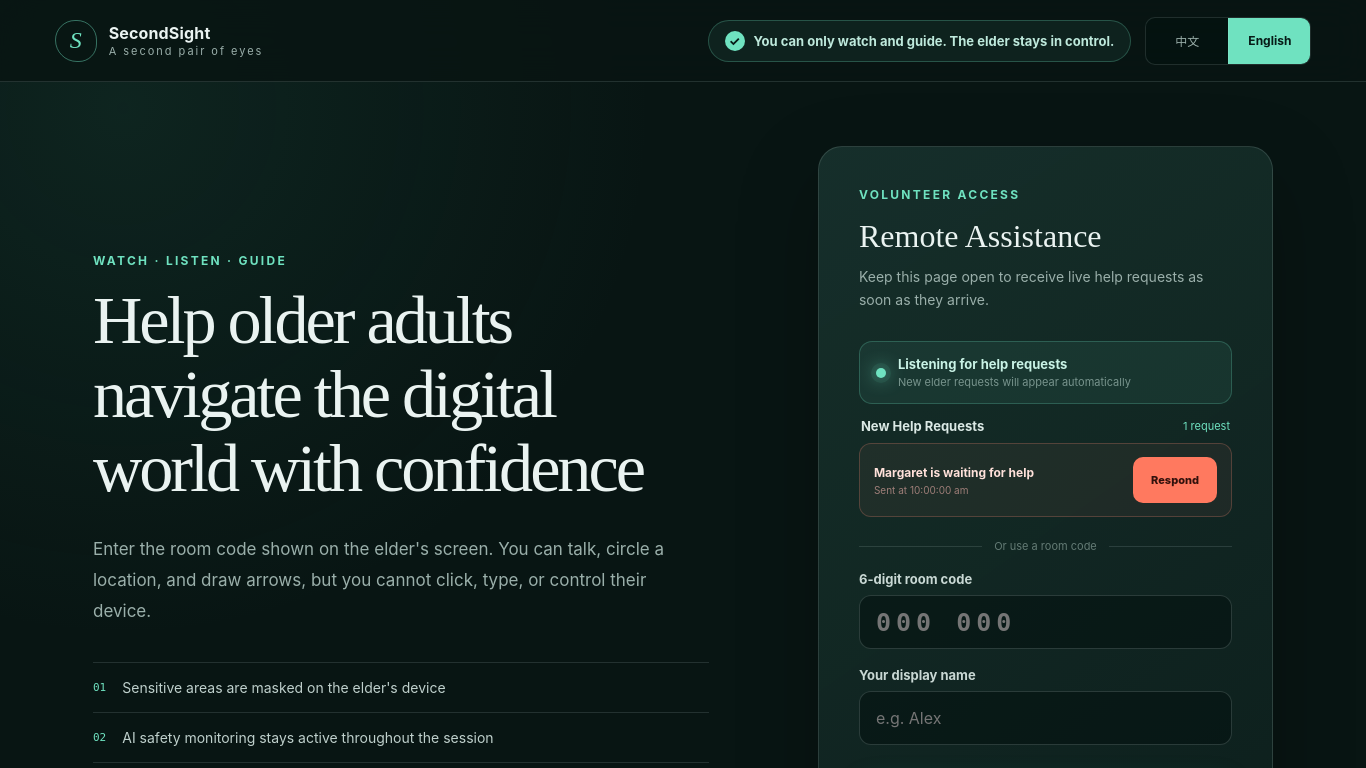
Scenario: volunteer app › does not claim a broadcast when media permission is denied
Type "Alex" into the field labelled "Your display name" at (1045, 718), box [859,691,1232,745]
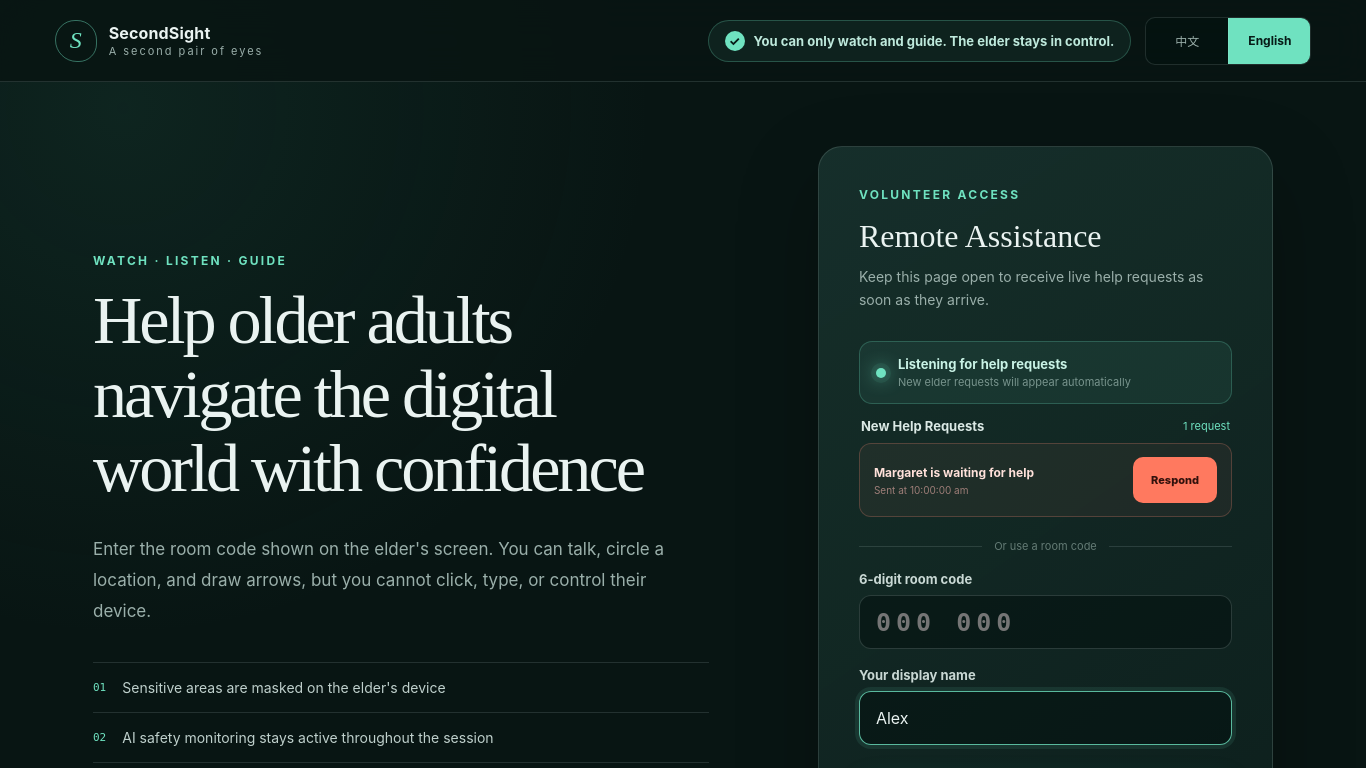
Click the button "Respond" at (1175, 480), box [1133,457,1217,503]
(page scrolled)
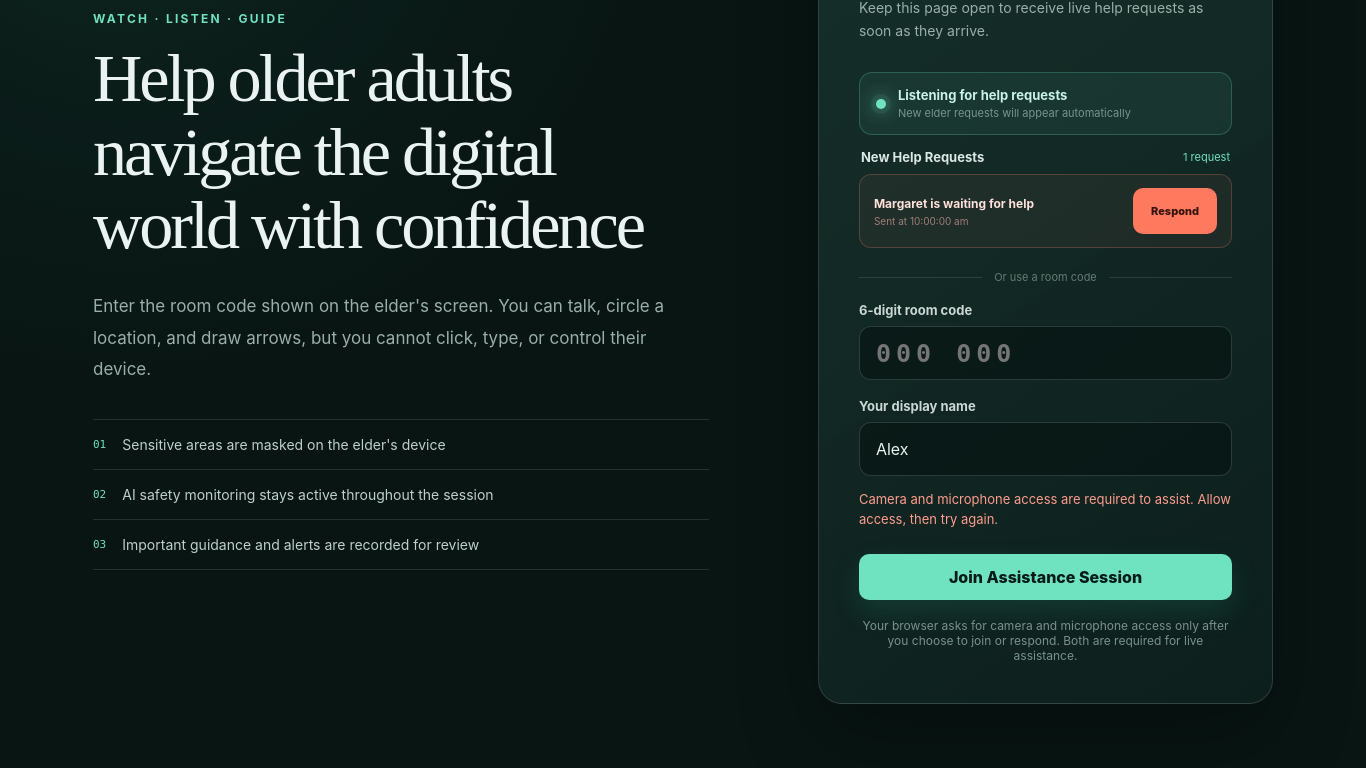
Expected: the 2nd message shows "Camera and microphone access are required to assist. Allow access, then try again.", [859,491,1231,527]
